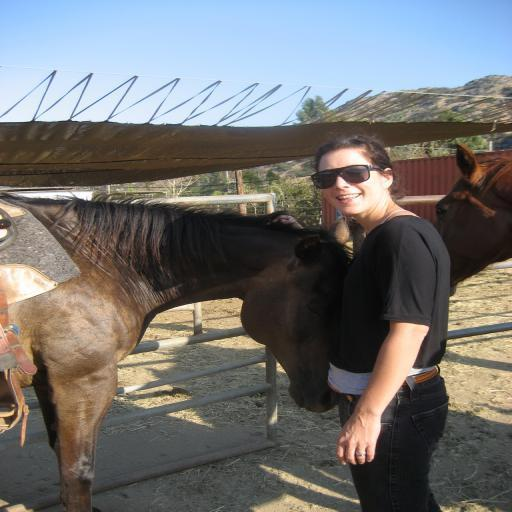horse: (0, 188, 362, 512), (429, 140, 512, 294)
